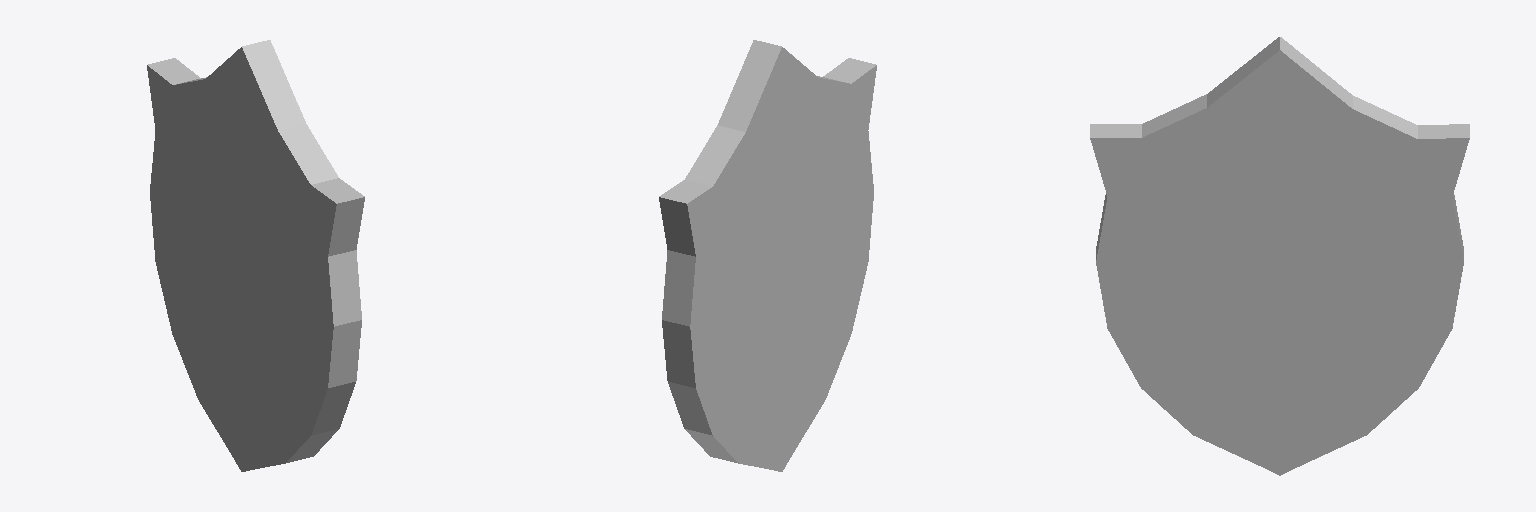
File: Shield_updated.obj
3 renders of one model, left to right at view 1: azimuth 30°, elevation 25°; view 2: azimuth 150°, elevation 25°; view 3: azimuth 270°, elevation 25°, orthographic.
Parts seen in each view (by area): view 1: pCylinder1; view 2: pCylinder1; view 3: pCylinder1.
Part boxes in pixels (left/top/right/bottom): pCylinder1: left=147, top=40, right=364, bottom=471; pCylinder1: left=659, top=40, right=876, bottom=471; pCylinder1: left=1090, top=37, right=1469, bottom=475.
Size of the model in its own units: 0.0994 by 1.42 by 1.15.